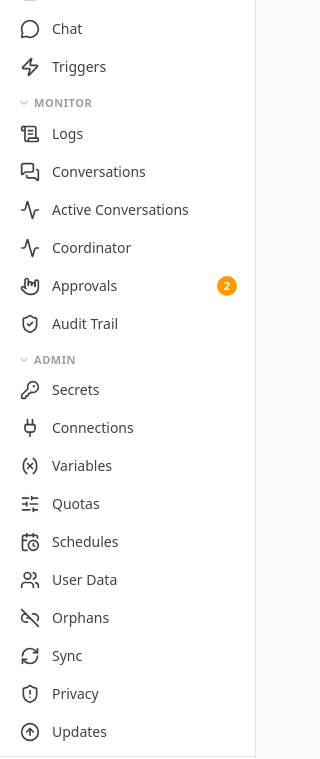
Sidebar › collapses a section when header is clicked
(page scrolled)
// Click the Admin section header to collapse it
Click the button "Admin".
click(128, 360)  # box [6,352,249,368]
(page scrolled)
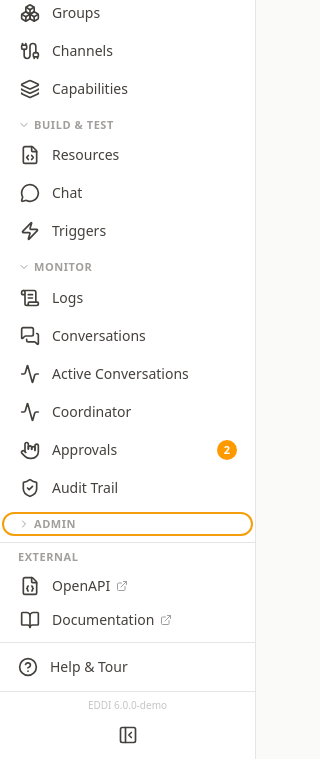
Now the link "Secrets" is gone
